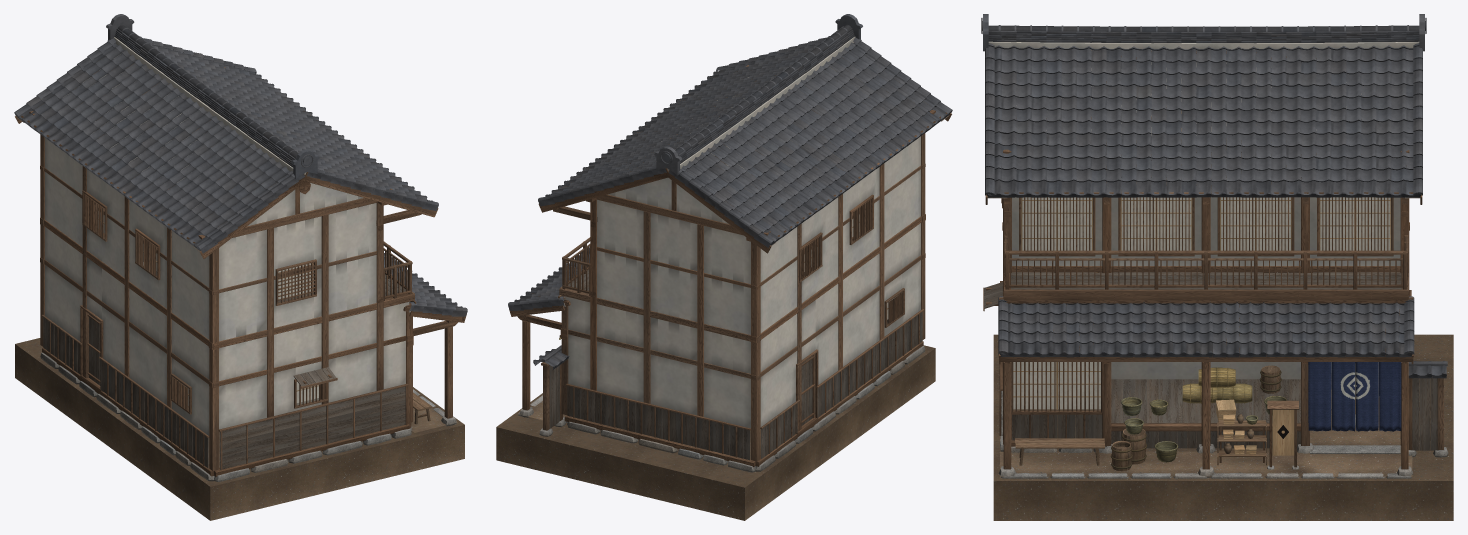
Rendered from machiya_b28.glb.
3 renders of one model, left to right at view 1: azimuth 30°, elevation 25°; view 2: azimuth 150°, elevation 25°; view 3: azimuth 270°, elevation 25°, orthographic. The views are drawn at different scales.
Parts seen in each view (by area): view 1: machiya_b28_plaster_white, machiya_b28_tile_ibushi, machiya_b28_wood_dark, machiya_b28_earth_floor, machiya_b28_wood_weathered, machiya_b28_stone_granite, machiya_b28_paper_shoji; view 2: machiya_b28_plaster_white, machiya_b28_tile_ibushi, machiya_b28_wood_dark, machiya_b28_earth_floor, machiya_b28_wood_weathered, machiya_b28_stone_granite, machiya_b28_tile_manju; view 3: machiya_b28_tile_ibushi, machiya_b28_wood_dark, machiya_b28_earth_floor, machiya_b28_wood_weathered, machiya_b28_paper_shoji, machiya_b28_plaster_white, machiya_b28_noren_b, machiya_b28_wood_fresh, machiya_b28_stone_granite, machiya_b28_wood_aged, machiya_b28_plaster_white#0.7, machiya_b28_straw (+3 smaller).
Part boxes in pixels (bbox=[...]): machiya_b28_plaster_white: bbox=[45, 37, 410, 435]; machiya_b28_tile_ibushi: bbox=[14, 14, 467, 316]; machiya_b28_wood_dark: bbox=[15, 64, 466, 476]; machiya_b28_earth_floor: bbox=[15, 338, 464, 520]; machiya_b28_wood_weathered: bbox=[17, 57, 405, 469]; machiya_b28_stone_granite: bbox=[40, 352, 456, 481]; machiya_b28_paper_shoji: bbox=[98, 134, 318, 405]; machiya_b28_plaster_white: bbox=[563, 36, 920, 428]; machiya_b28_tile_ibushi: bbox=[508, 14, 952, 369]; machiya_b28_wood_dark: bbox=[509, 58, 951, 467]; machiya_b28_earth_floor: bbox=[496, 345, 935, 520]; machiya_b28_wood_weathered: bbox=[549, 52, 949, 460]; machiya_b28_stone_granite: bbox=[518, 346, 925, 472]; machiya_b28_tile_manju: bbox=[514, 71, 947, 368]; machiya_b28_tile_ibushi: bbox=[981, 14, 1447, 378]; machiya_b28_wood_dark: bbox=[983, 50, 1443, 469]; machiya_b28_earth_floor: bbox=[993, 334, 1453, 520]; machiya_b28_wood_weathered: bbox=[984, 136, 1438, 450]; machiya_b28_paper_shoji: bbox=[1013, 111, 1390, 409]; machiya_b28_plaster_white: bbox=[988, 41, 1419, 272]; machiya_b28_noren_b: bbox=[1308, 362, 1401, 431]; machiya_b28_wood_fresh: bbox=[1013, 111, 1390, 455]; machiya_b28_stone_granite: bbox=[999, 391, 1448, 478]; machiya_b28_wood_aged: bbox=[1015, 365, 1280, 471]; machiya_b28_plaster_white#0.7: bbox=[1111, 362, 1379, 403]; machiya_b28_straw: bbox=[1182, 367, 1252, 403].
Bounding box in the file's own units: 7.5 × 9.16 × 9.5.
Materials: 14 (13 with a texture image).
